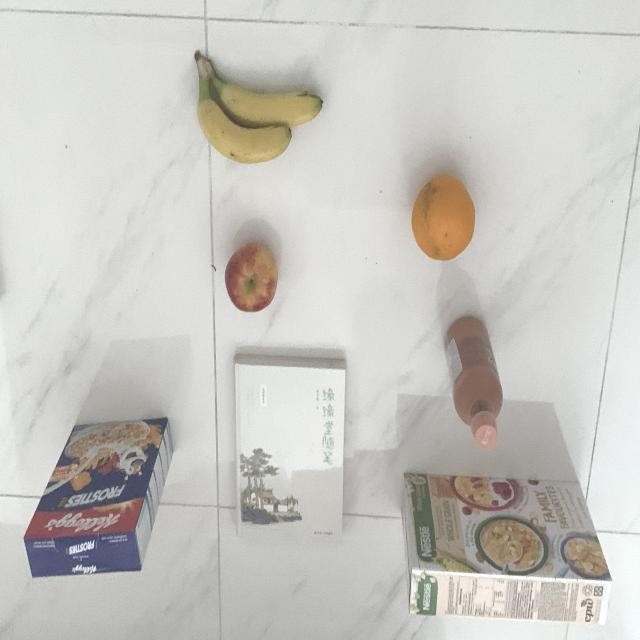Apple: (220, 236, 279, 314)
Banana: (190, 48, 328, 169)
Book: (230, 351, 348, 544)
Cerealbox: (400, 471, 614, 630), (21, 418, 176, 582)
Orange: (406, 172, 482, 270)
